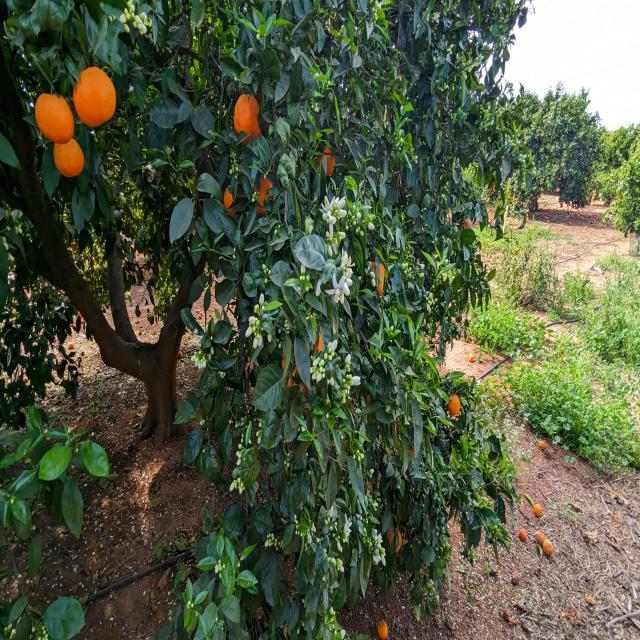Bunga: (324, 272, 344, 302), (132, 14, 148, 35), (120, 7, 131, 34), (342, 249, 354, 273), (322, 197, 335, 216), (326, 216, 336, 238), (328, 339, 338, 360), (344, 512, 352, 538), (346, 374, 362, 386), (300, 263, 310, 282), (334, 229, 346, 244), (310, 366, 322, 381), (374, 528, 382, 549), (346, 266, 354, 287), (127, 0, 135, 20), (190, 351, 200, 367), (318, 360, 326, 378), (372, 548, 380, 566), (329, 618, 337, 634), (238, 478, 246, 494), (245, 326, 256, 337), (337, 197, 346, 210), (216, 559, 222, 578), (296, 524, 304, 538), (336, 208, 347, 218), (262, 264, 271, 276), (346, 354, 352, 372), (336, 534, 342, 552), (342, 379, 349, 394), (230, 479, 238, 492), (248, 317, 258, 327), (343, 282, 350, 296), (337, 558, 344, 572), (324, 518, 332, 530), (356, 450, 364, 462), (236, 450, 242, 466), (381, 548, 386, 567), (328, 556, 336, 566), (264, 538, 272, 548), (186, 600, 194, 610), (198, 359, 206, 369), (256, 431, 262, 444), (258, 293, 264, 305), (254, 304, 260, 316), (252, 336, 258, 348), (253, 326, 259, 338), (367, 536, 373, 548), (322, 212, 329, 222), (240, 416, 247, 426), (307, 531, 312, 545), (339, 630, 346, 640), (310, 521, 316, 532), (312, 357, 320, 365), (196, 336, 204, 344), (329, 506, 334, 518), (330, 606, 336, 616), (356, 210, 362, 220), (369, 468, 374, 478), (328, 244, 332, 256), (258, 334, 262, 346), (267, 534, 275, 540), (284, 321, 290, 328), (294, 514, 298, 524), (208, 352, 212, 362), (268, 333, 272, 342), (210, 345, 214, 354), (324, 352, 328, 360), (342, 396, 346, 404), (274, 538, 278, 546), (305, 286, 309, 292), (264, 278, 268, 284), (258, 422, 262, 428), (241, 434, 244, 442), (238, 444, 242, 450), (204, 325, 208, 331), (248, 439, 252, 444), (298, 286, 301, 292), (326, 414, 329, 418), (353, 456, 356, 458)
Jeruk Sudah Matang: (74, 68, 116, 128), (34, 94, 74, 144), (234, 94, 261, 146), (53, 138, 85, 176), (254, 177, 274, 214), (316, 146, 336, 177), (372, 260, 386, 296), (290, 368, 308, 396), (306, 331, 322, 357), (224, 183, 236, 216), (389, 530, 402, 552), (448, 394, 461, 414), (378, 620, 389, 640), (459, 217, 472, 231), (282, 352, 286, 370), (410, 446, 414, 457), (366, 395, 370, 401)
